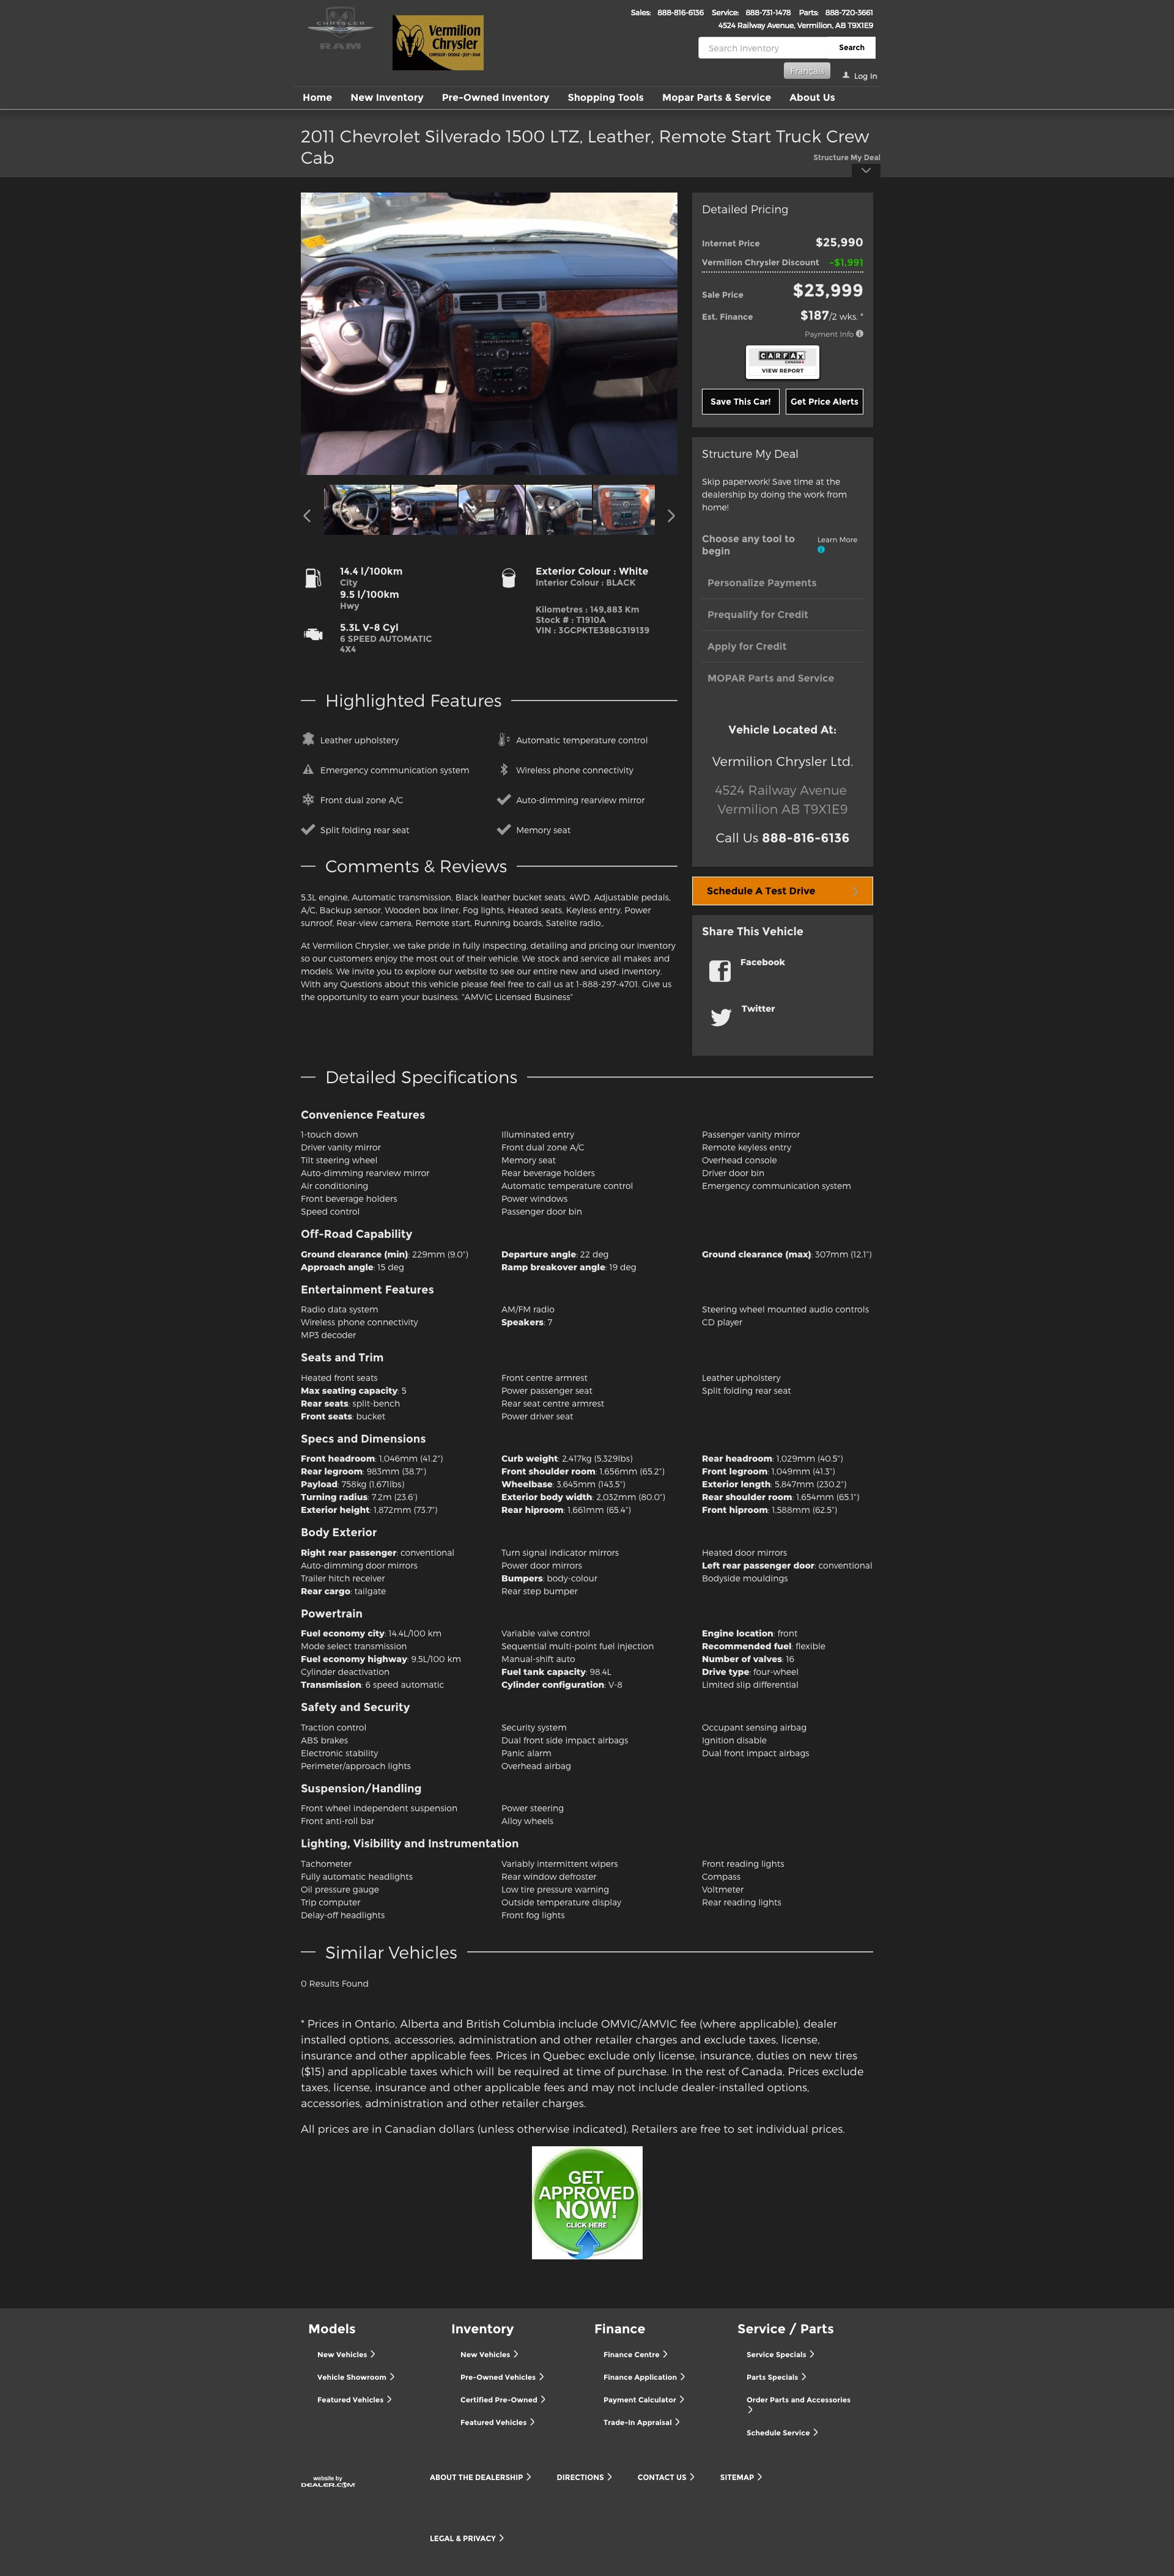car: (668, 509, 676, 522)
